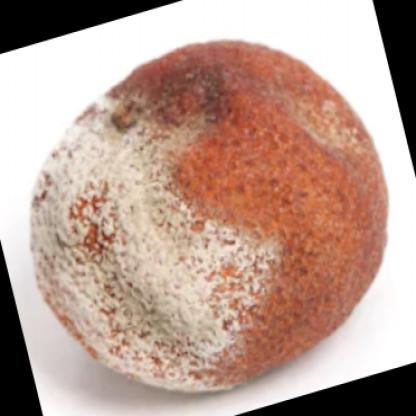rotten_orange: (39, 30, 394, 399)
